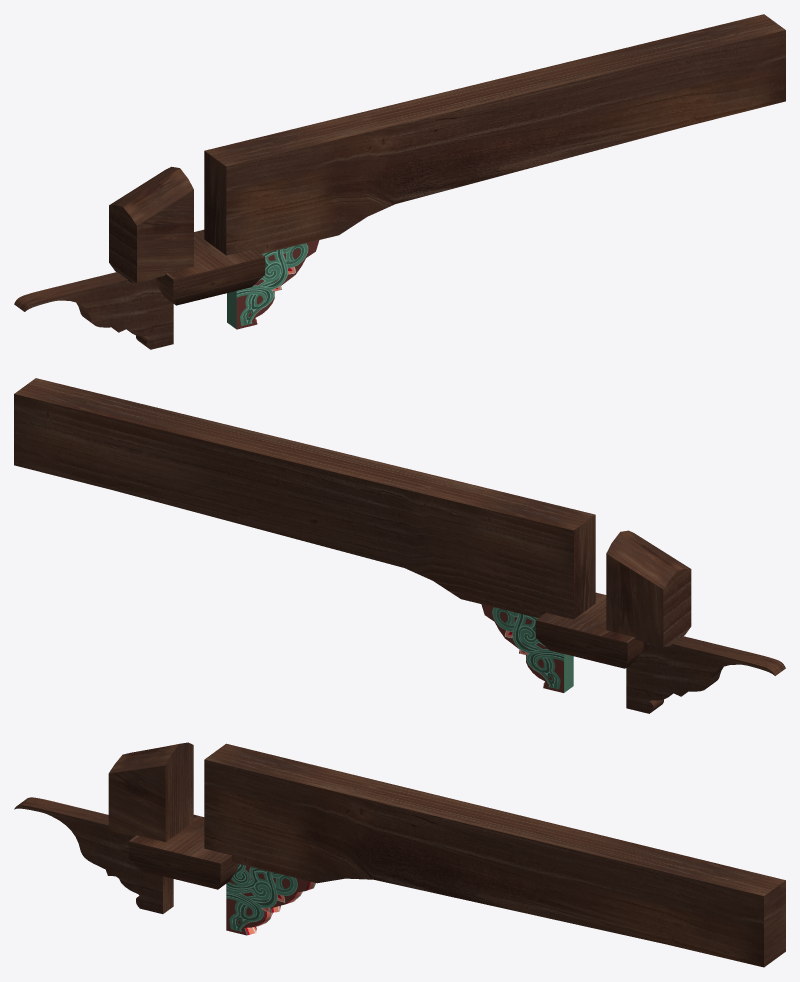
Rendered from SM_R_Beam_36.fbx.
3 views of the same model, one above another, from view 1: azimuth 30°, elevation 25°; view 2: azimuth 150°, elevation 25°; view 3: azimuth 330°, elevation 25° (orthographic).
Visible parts, largest first — view 1: SM_R_Beam_36; view 2: SM_R_Beam_36; view 3: SM_R_Beam_36.
Boxes of the visible parts, x1,y1,x2,y2 form: SM_R_Beam_36: (14, 14, 785, 349); SM_R_Beam_36: (14, 378, 785, 713); SM_R_Beam_36: (14, 742, 785, 967).
Bounding box in the file's own units: 373 × 37.18 × 80.76.
Materials: 6 (6 with a texture image).
